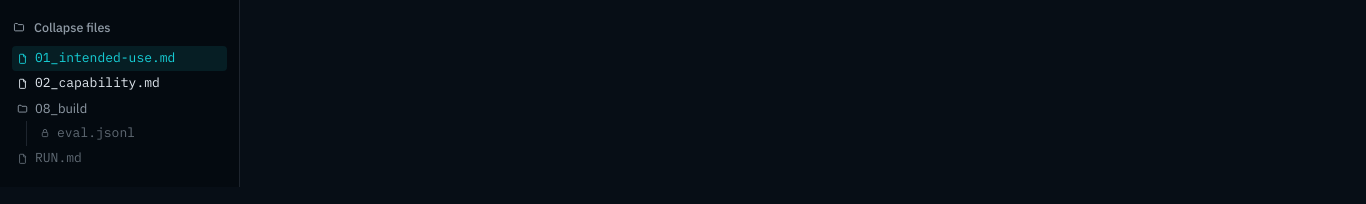
Test case: FileTree › toggles collapsed state and persists it
The image size is (1366, 204).
What coordinates should you click on to do the following:
click the button "Collapse files"
I would click on:
 (61, 27)
Its box is [12, 16, 110, 38].
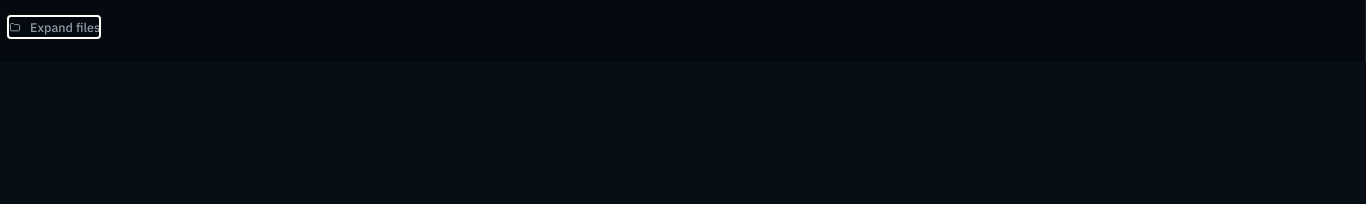
Check: the button "Expand files" is shown, box [8, 16, 100, 38]
